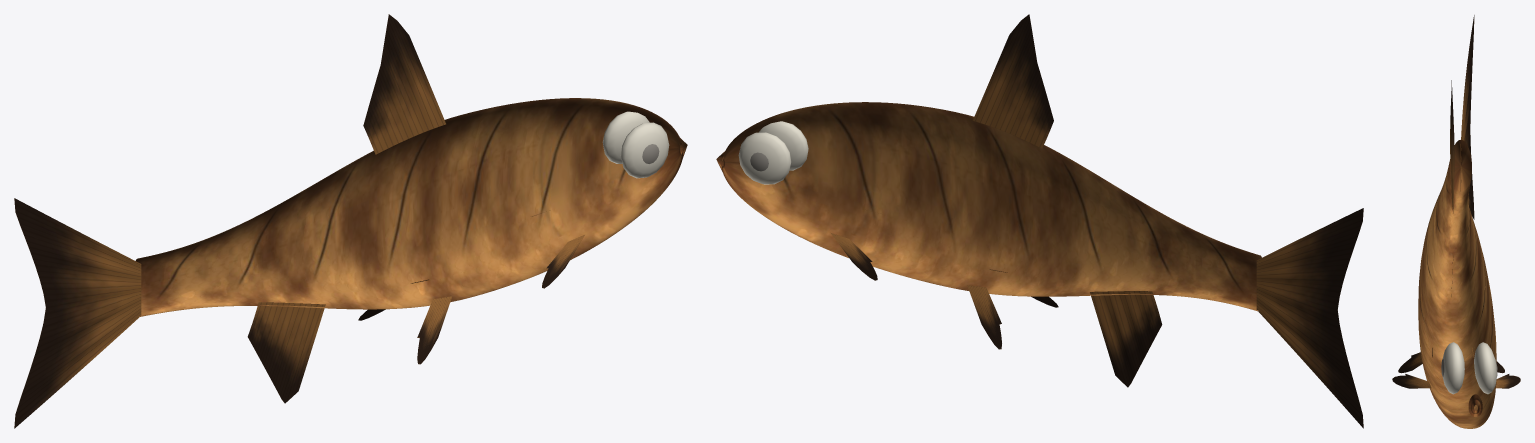
The model's file is fish_roach_cooked.gltf.
3 views of the same model, side by side, from view 1: azimuth 30°, elevation 25°; view 2: azimuth 150°, elevation 25°; view 3: azimuth 270°, elevation 25° (orthographic). The views are drawn at different scales.
Visible parts, largest first — view 1: fish_roach_cooked; view 2: fish_roach_cooked; view 3: fish_roach_cooked.
Boxes of the visible parts, x1=… form: fish_roach_cooked: x1=14, y1=14, x2=687, y2=428; fish_roach_cooked: x1=716, y1=14, x2=1363, y2=428; fish_roach_cooked: x1=1392, y1=15, x2=1520, y2=428.
Bounding box in the file's own units: 0.2179 × 0.1126 × 0.0403.
Materials: 6 (4 with a texture image).
